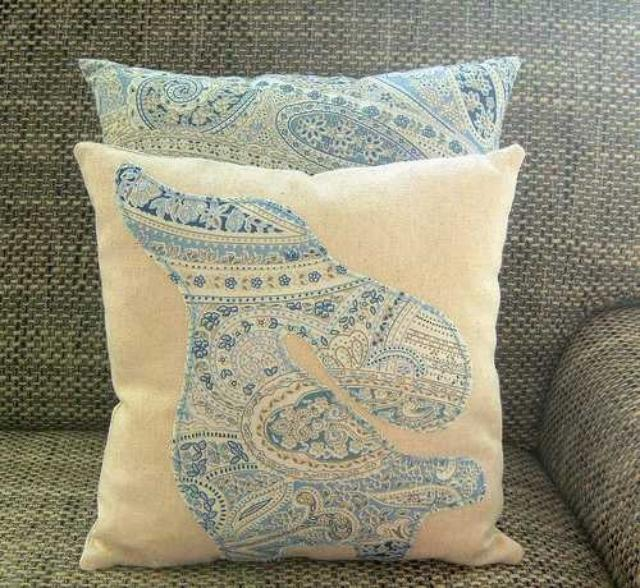pillow: (74, 139, 526, 571), (76, 52, 522, 173)
